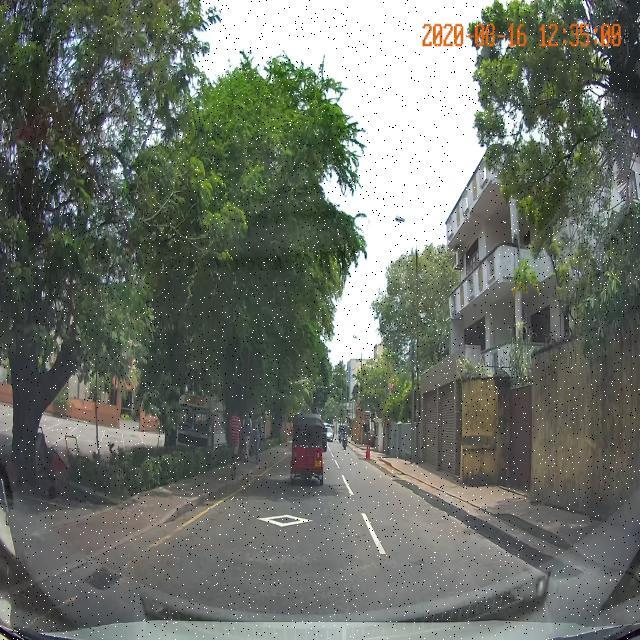diamond: (154, 495, 391, 558)
